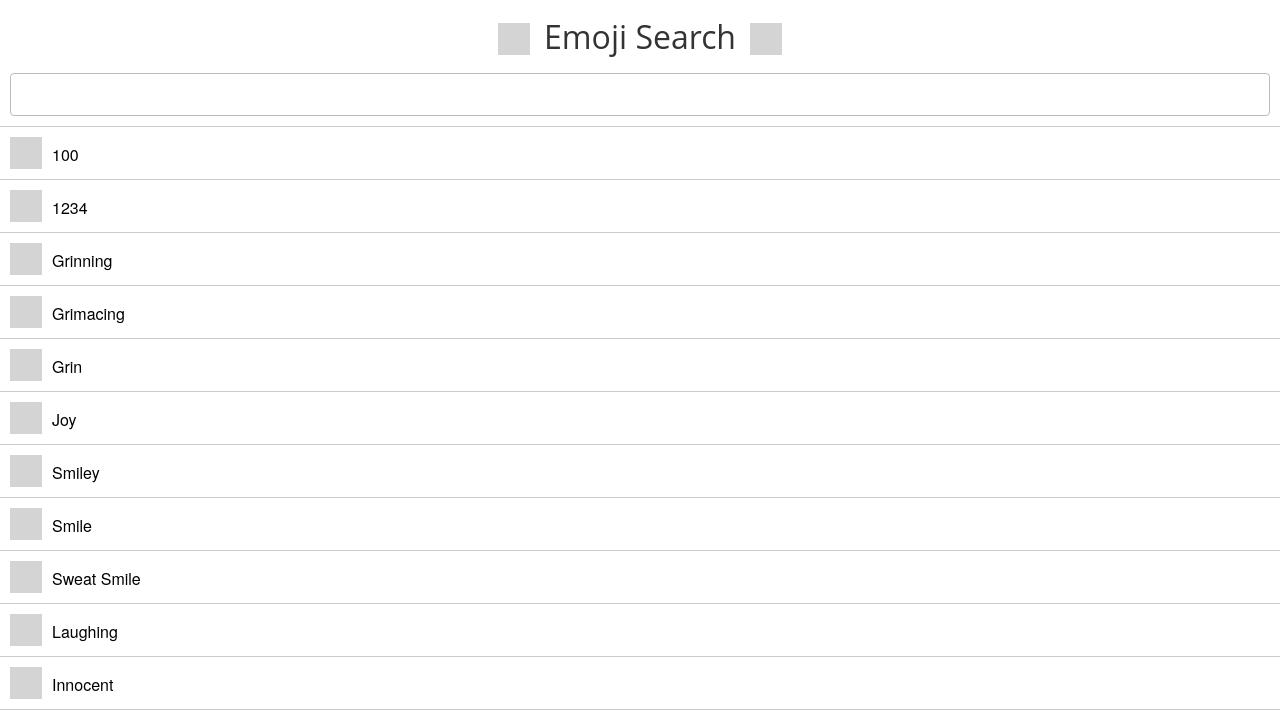
it: my first test › allow user to search for an emoji
Type "joy" into the field with test id "search-input" at [640, 95], box [10,73,1270,116]
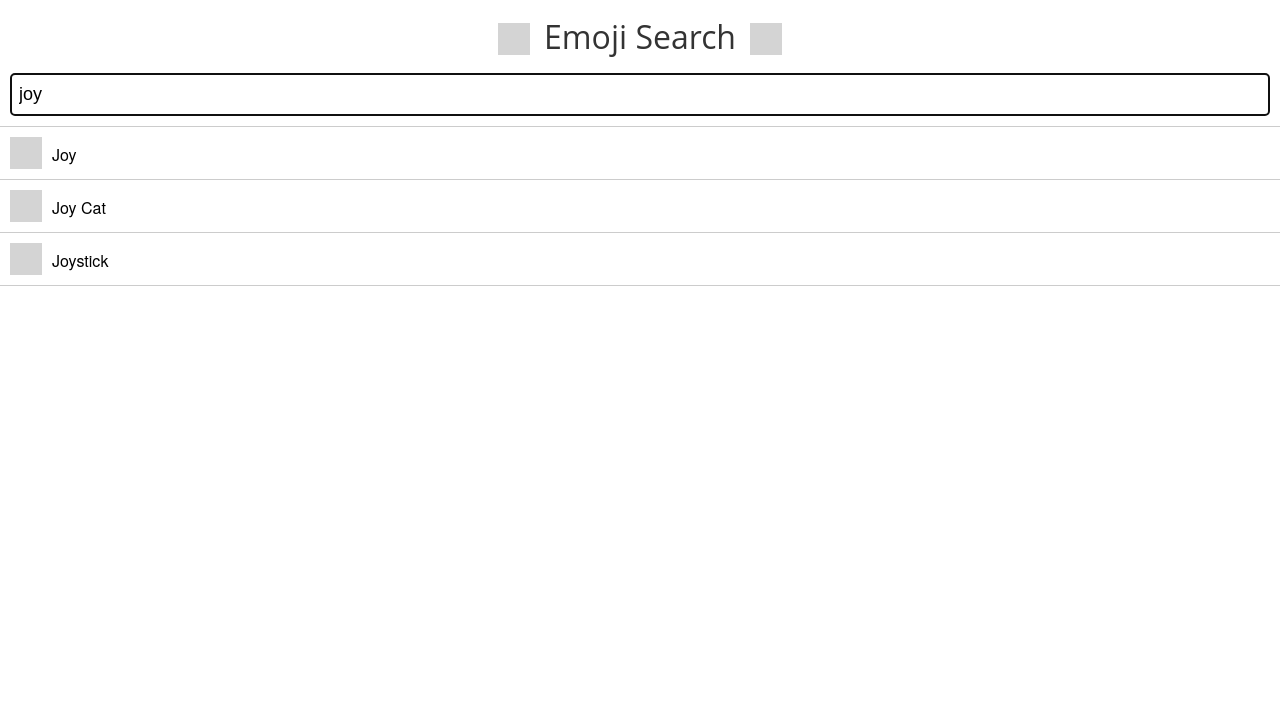
Result: the number of elements with test id "emoji-row" is 3 at [0,127,1279,180]; [0,180,1279,233]; [0,233,1279,286]
Result: the text "Joy Cat" is shown at [52,196,106,219]
Result: the text "Joystick" is shown at [52,249,108,272]
